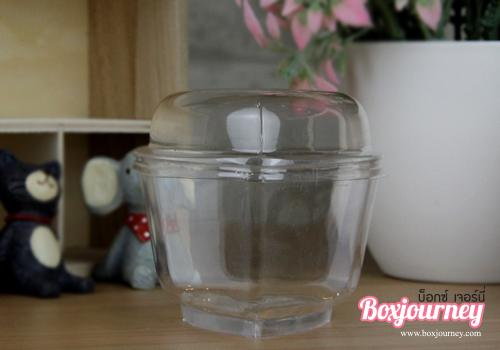plastic_glass: (129, 85, 387, 343)
